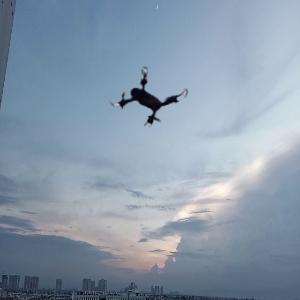drone: (105, 49, 194, 138)
